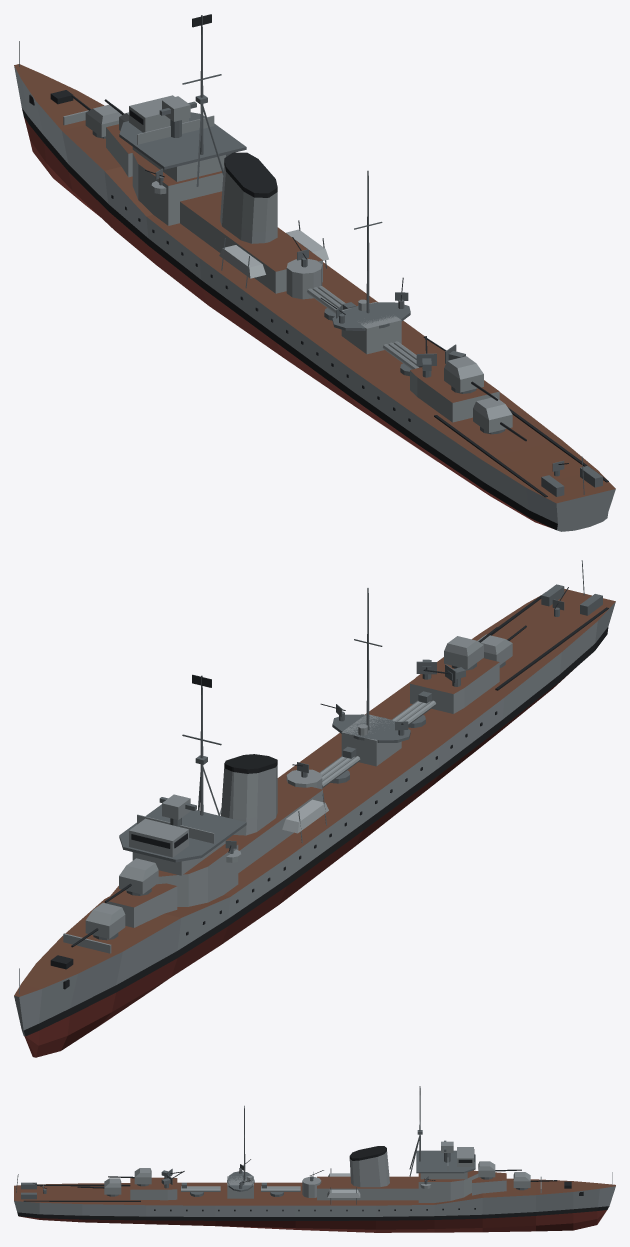
File: gnevny.glb
The picture shows the model from 3 angles, top to bottom: view 1: azimuth 30°, elevation 25°; view 2: azimuth 150°, elevation 25°; view 3: azimuth 270°, elevation 25°; orthographic projection. The views are drawn at different scales.
Visible parts, largest first — view 1: Hull, Midships deckhouse, Bridge platform, Bridge deckhouse, Funnel, Aft deckhouse, Funnel cap, Mainmast platform base, Mainmast platform, AA platform, B-13 No3 shield, B-13 No4 shield (+6 smaller); view 2: Hull, Funnel, Bridge deckhouse, Aft deckhouse, Midships deckhouse, Bridge platform, Gun platform 2, Mainmast platform base, Pilothouse, Mainmast platform, B-13 No1 shield, B-13 No2 shield (+5 smaller); view 3: Hull, Midships deckhouse, Bridge deckhouse, Funnel, Bridge platform, Aft deckhouse, Gun platform 2, Mainmast platform base, Funnel cap, Bridge block, Mainmast platform, AA platform (+7 smaller).
Part boxes in pixels (bbox=[...]): Hull: bbox=[14, 64, 615, 531]; Midships deckhouse: bbox=[180, 191, 322, 293]; Bridge platform: bbox=[119, 112, 246, 169]; Bridge deckhouse: bbox=[132, 151, 223, 225]; Funnel: bbox=[220, 163, 277, 243]; Aft deckhouse: bbox=[410, 361, 499, 422]; Funnel cap: bbox=[224, 152, 277, 197]; Mainmast platform base: bbox=[341, 302, 401, 354]; Mainmast platform: bbox=[332, 302, 410, 330]; AA platform: bbox=[286, 259, 322, 299]; B-13 No3 shield: bbox=[444, 356, 483, 392]; B-13 No4 shield: bbox=[473, 396, 512, 432]; Hull: bbox=[14, 589, 615, 1057]; Funnel: bbox=[221, 765, 277, 835]; Bridge deckhouse: bbox=[157, 844, 238, 906]; Aft deckhouse: bbox=[410, 657, 499, 713]; Midships deckhouse: bbox=[226, 778, 322, 872]; Bridge platform: bbox=[119, 804, 246, 862]; Gun platform 2: bbox=[106, 883, 177, 927]; Mainmast platform base: bbox=[341, 714, 401, 766]; Pilothouse: bbox=[129, 818, 188, 857]; Mainmast platform: bbox=[332, 714, 410, 742]; B-13 No1 shield: bbox=[85, 902, 125, 938]; B-13 No2 shield: bbox=[119, 858, 158, 894]; Hull: bbox=[14, 1178, 615, 1232]; Midships deckhouse: bbox=[317, 1176, 418, 1200]; Bridge deckhouse: bbox=[418, 1170, 478, 1202]; Funnel: bbox=[349, 1151, 389, 1187]; Bridge platform: bbox=[416, 1150, 475, 1173]; Aft deckhouse: bbox=[130, 1177, 177, 1200]; Gun platform 2: bbox=[472, 1170, 506, 1195]; Mainmast platform base: bbox=[227, 1176, 253, 1198]; Funnel cap: bbox=[349, 1146, 386, 1160]; Bridge block: bbox=[420, 1172, 467, 1179]; Mainmast platform: bbox=[227, 1171, 254, 1191]; AA platform: bbox=[302, 1177, 321, 1197].
Bounding box in the file's own units: 10.29 × 29.3 × 113.
